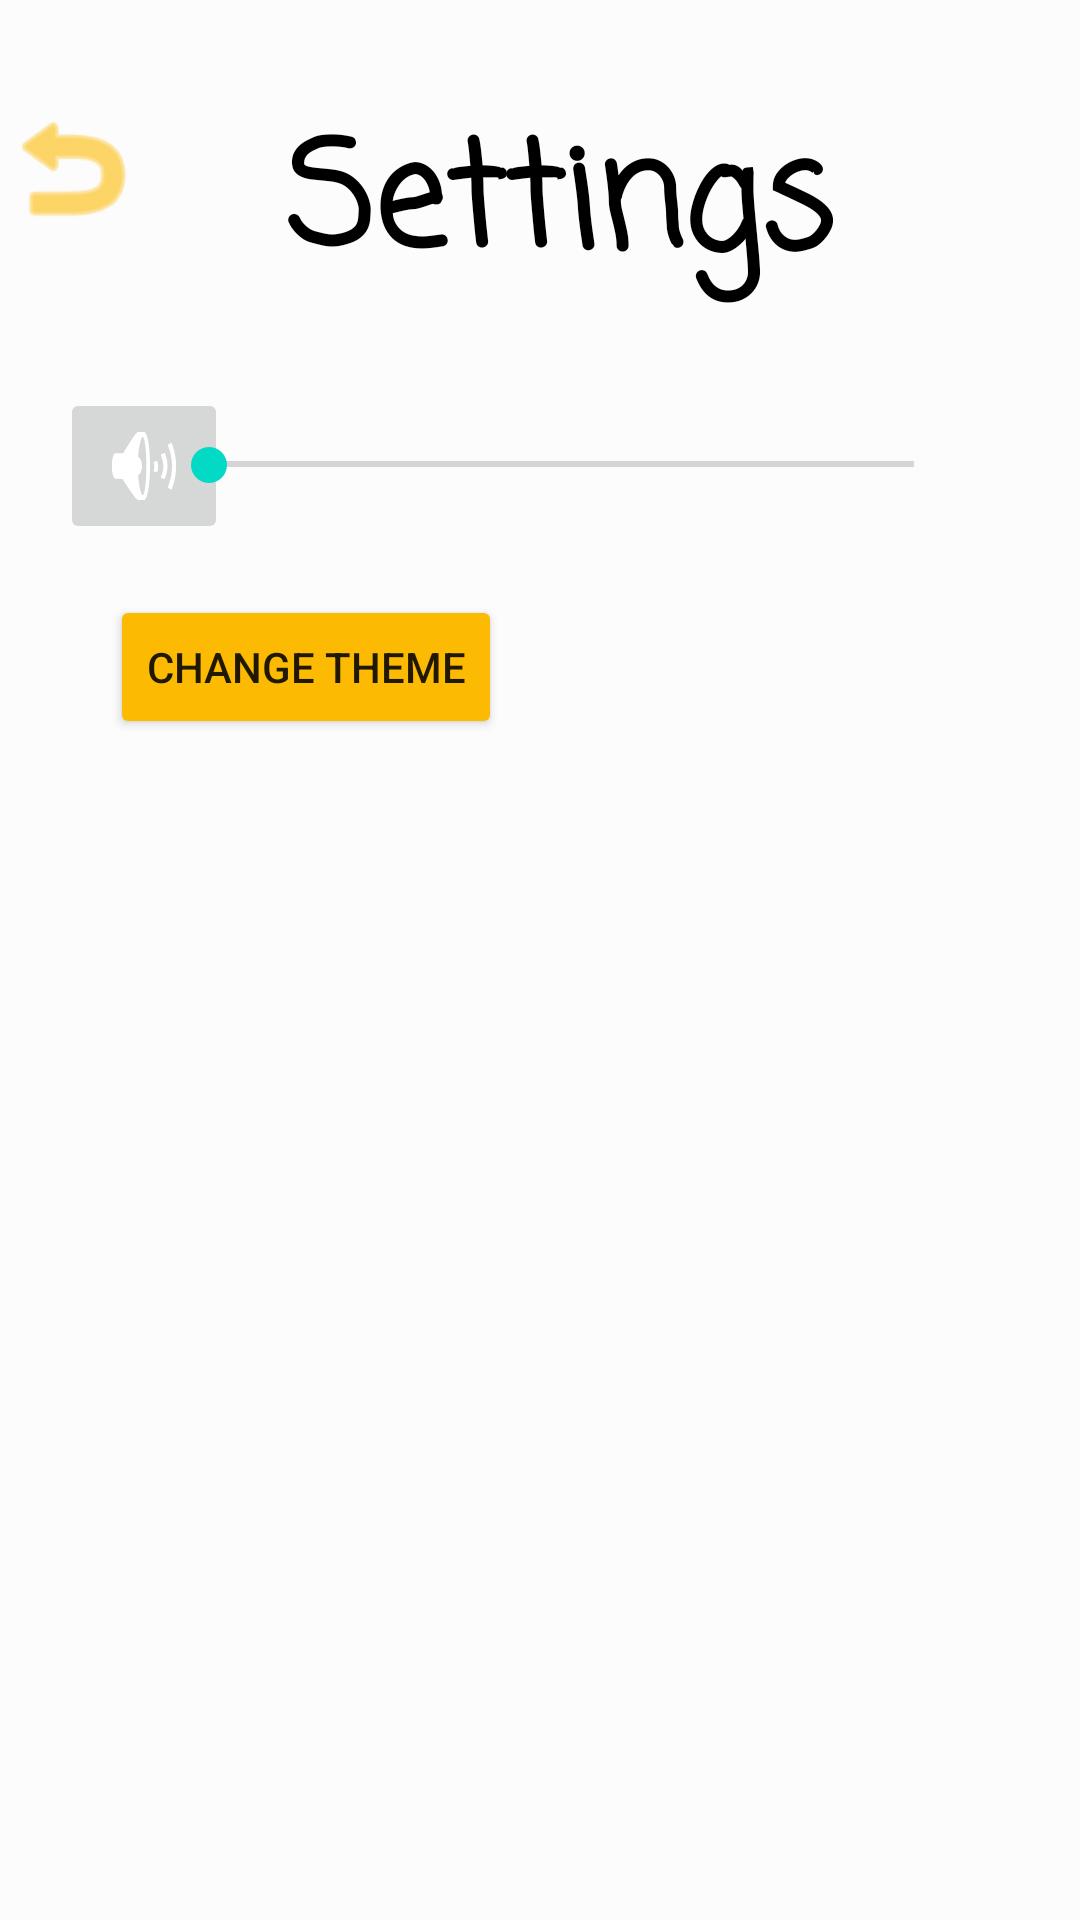

Locate icon controls on the screen. Image size 1080×1920, boxes as (x1, y1, x2, y2).
lock silent mode off: (72, 406, 228, 526)
revert: (22, 122, 126, 216)
